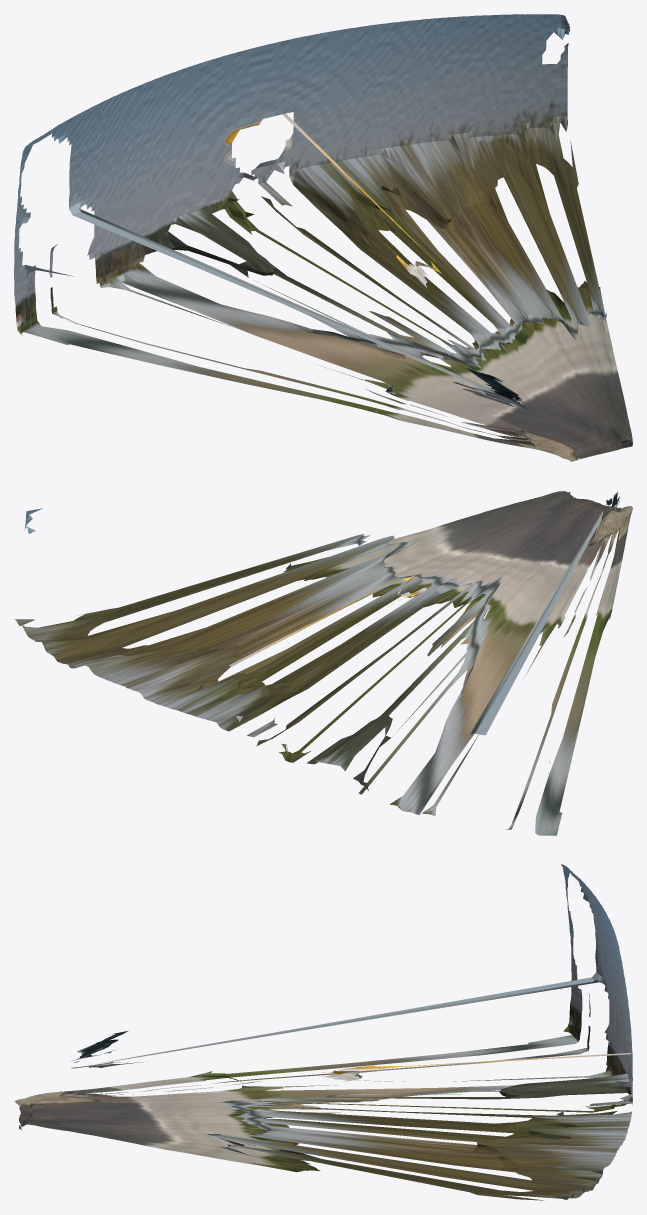
3 renders of one model, top to bottom at view 1: azimuth 30°, elevation 25°; view 2: azimuth 150°, elevation 25°; view 3: azimuth 270°, elevation 25°, orthographic. The views are drawn at different scales.
Parts seen in each view (by area): view 1: defaultobject; view 2: defaultobject; view 3: defaultobject.
Boxes of the visible parts, x1,y1,x2,y2 form: defaultobject: [14, 14, 632, 461]; defaultobject: [15, 491, 632, 835]; defaultobject: [14, 864, 632, 1200].
Bounding box in the file's own units: 41.14 × 14.34 × 44.78.
1 material, 1 textured.
